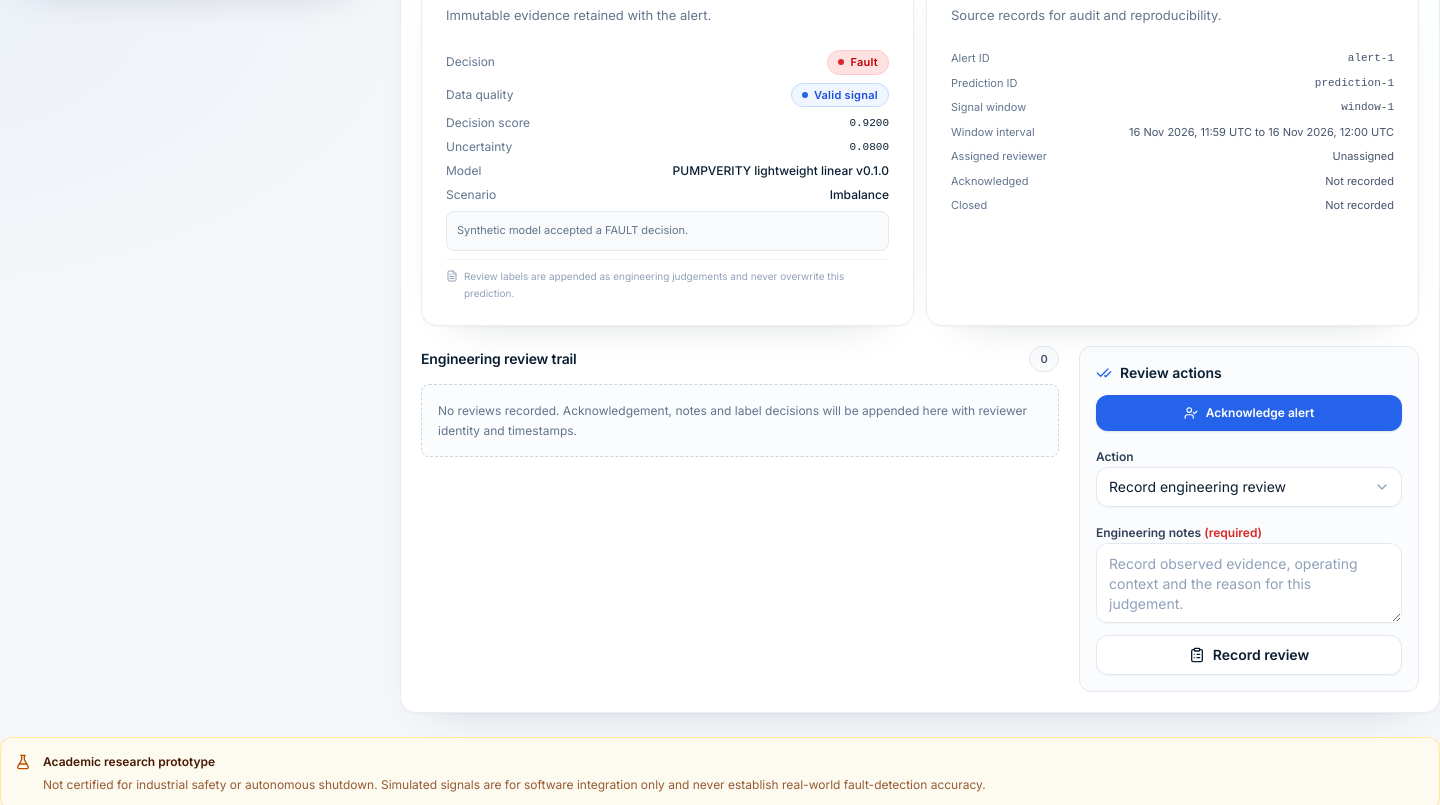
it: AlertsPage › shows the immutable prediction evidence and acknowledges the alert
(page scrolled)
Expected: the text "Synthetic model accepted a FAULT decision." is shown, [446,211,889,251]
Expected: the text "never overwrite this" is shown, [464,270,844,299]
Click the button "Acknowledge alert".
click(1249, 413)  # box [1096,395,1402,431]
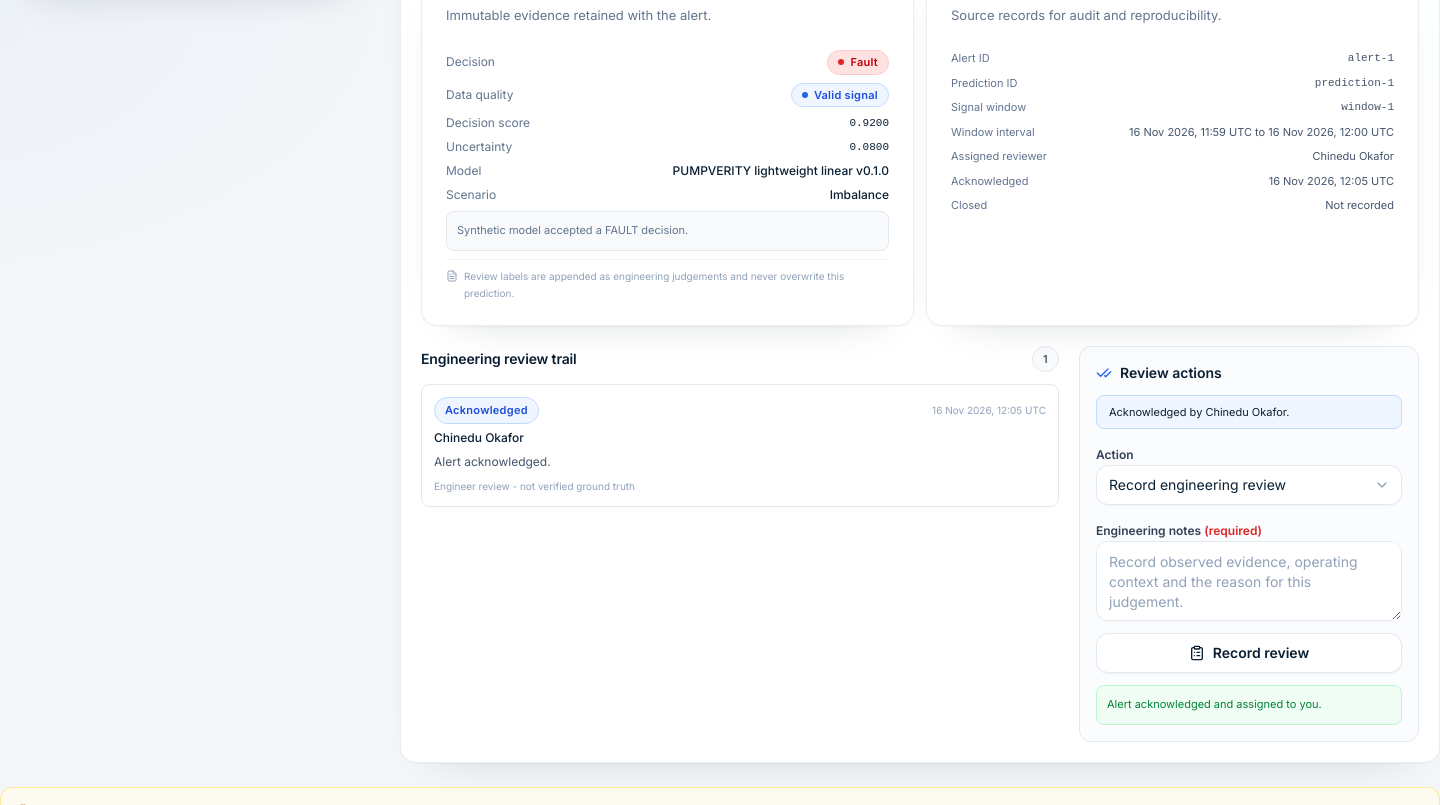
Now the text "Alert acknowledged and assigned to you." is shown, box [1096,685,1402,725]
Now the text "Alert acknowledged." is shown, box [434,454,551,469]
